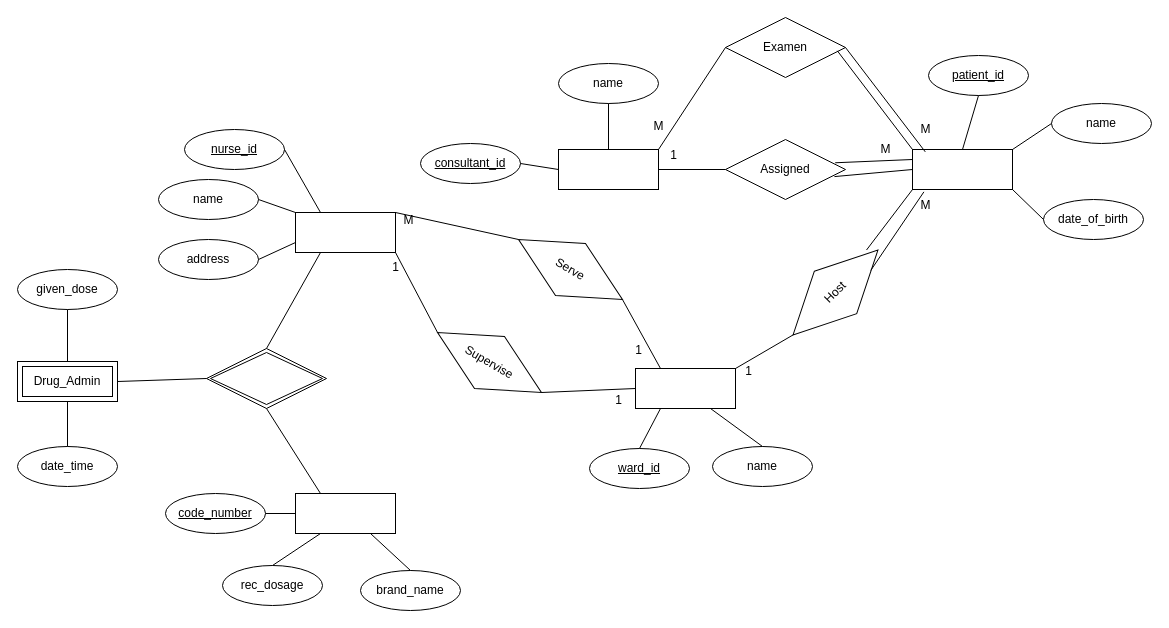
This 1169x628 diagram has some shape labels left out. Each missing label, with the centre of its shape:
Consultant: (x=608, y=169)
Drug: (x=345, y=513)
Has: (x=266, y=378)
Nurse: (x=345, y=232)
Patient: (x=962, y=169)
Ward: (x=685, y=388)
